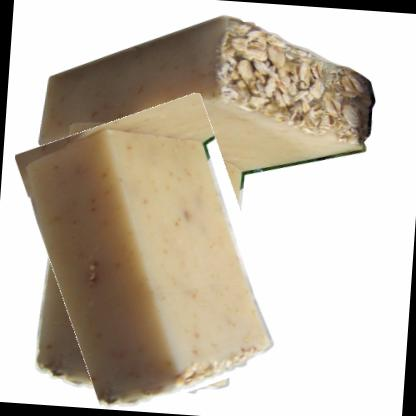soap: (19, 94, 284, 415)
